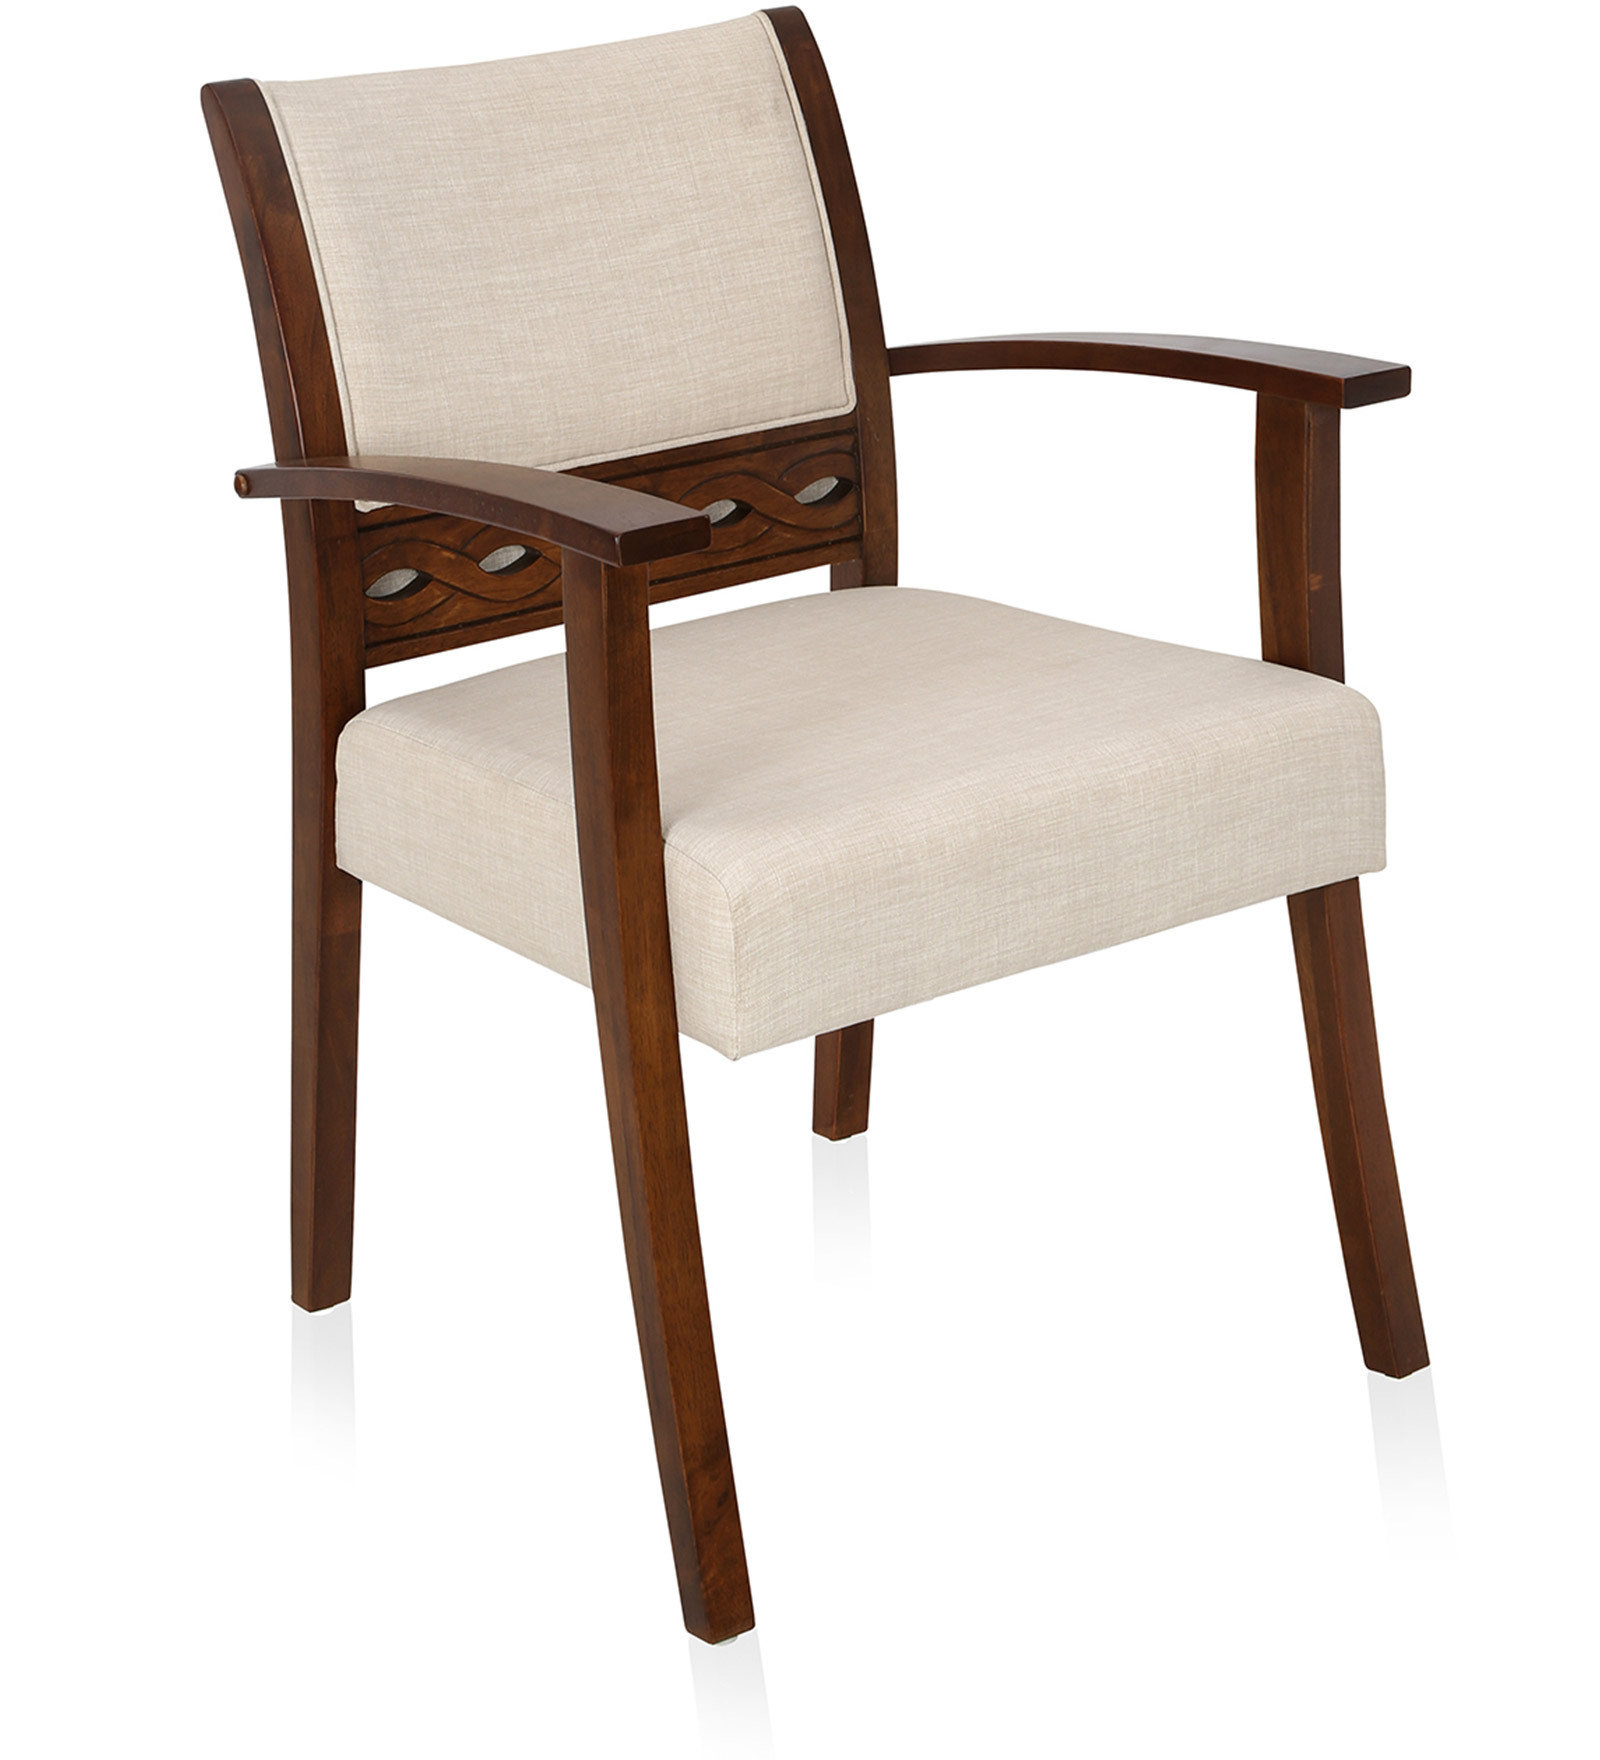Zinnia Arm Chair in Beige Colour by @ Home: (146, 38, 1497, 1673)
